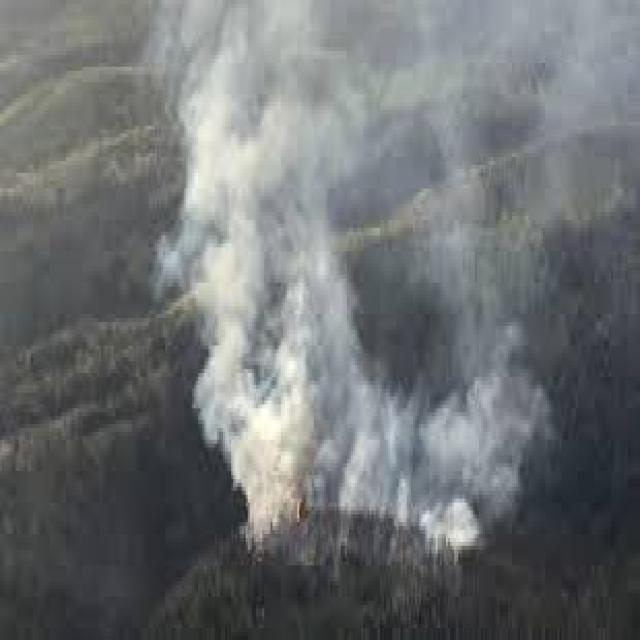Smoke: (164, 14, 382, 558), (392, 371, 544, 562)
